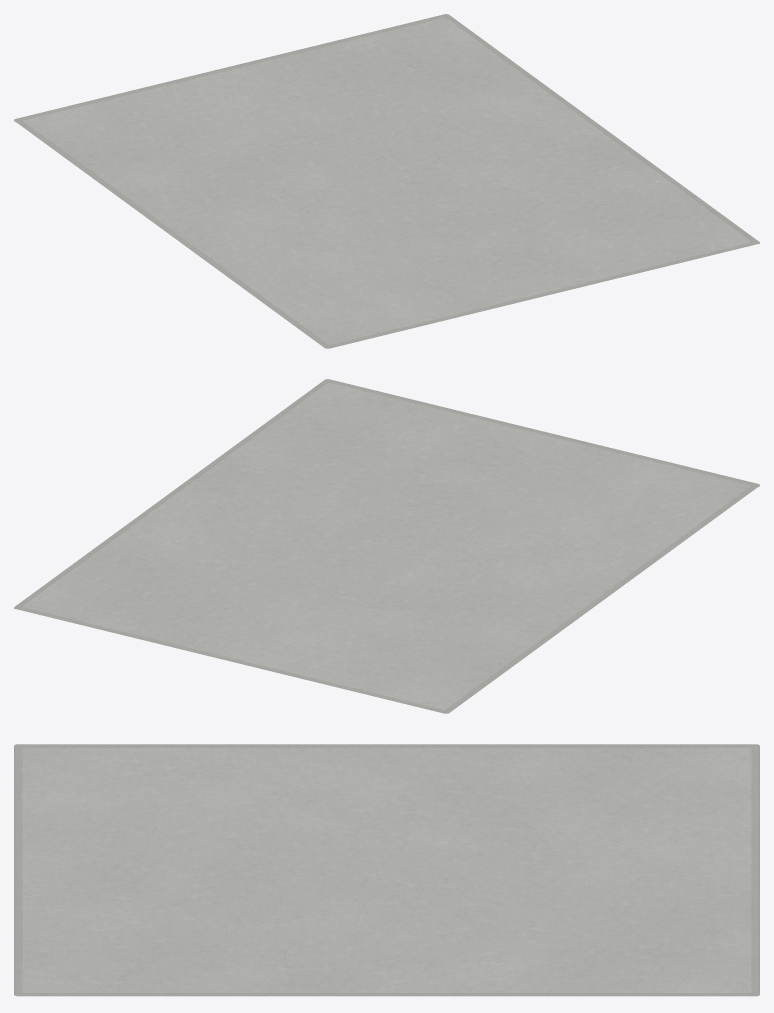
Rendered from gray_L.glb.
The picture shows the model from 3 angles, top to bottom: view 1: azimuth 30°, elevation 25°; view 2: azimuth 150°, elevation 25°; view 3: azimuth 270°, elevation 25°; orthographic projection. The views are drawn at different scales.
Parts seen in each view (by area): view 1: reliv_gray_L; view 2: reliv_gray_L; view 3: reliv_gray_L.
Boxes of the visible parts, x1,y1,x2,y2 form: reliv_gray_L: (14, 14, 759, 348); reliv_gray_L: (14, 379, 759, 713); reliv_gray_L: (14, 744, 759, 996).
Bounding box in the file's own units: 2 × 0.009 × 2.5.
2 materials, 1 textured.
